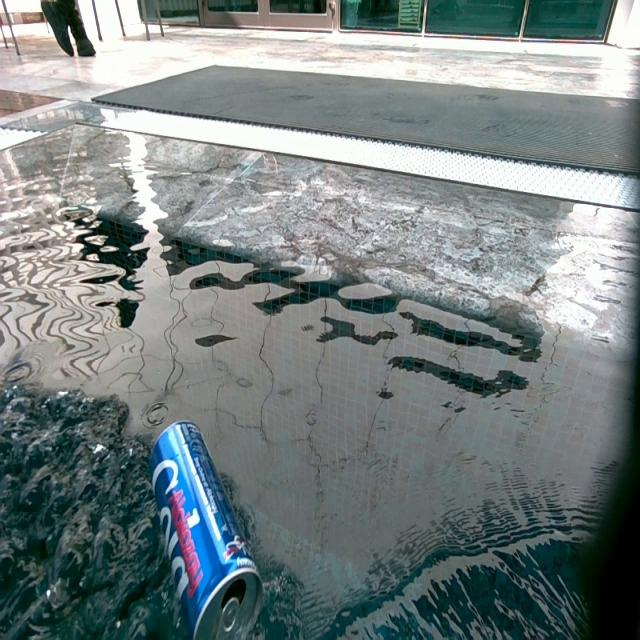Cans: (148, 419, 263, 640)
